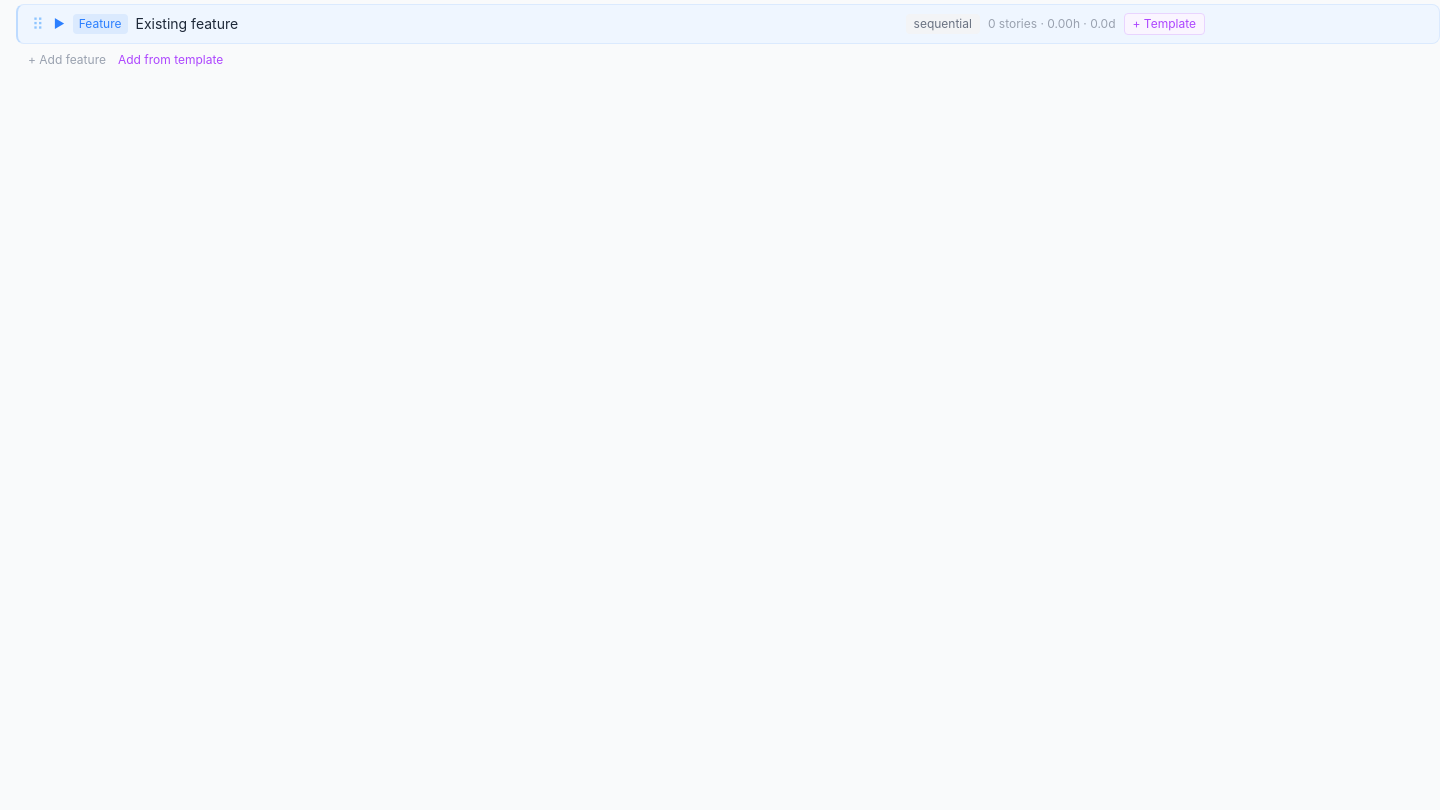
FeatureList template entry points › offers blank and template creation beside each other without disturbing the per-feature template action
Expected: the button "+ Add feature" is shown, [24,48,106,72]
Expected: the button "+ Template" is shown, [1124,13,1205,35]
Click the button "Add from template" at (171, 60), box [118,48,223,72]
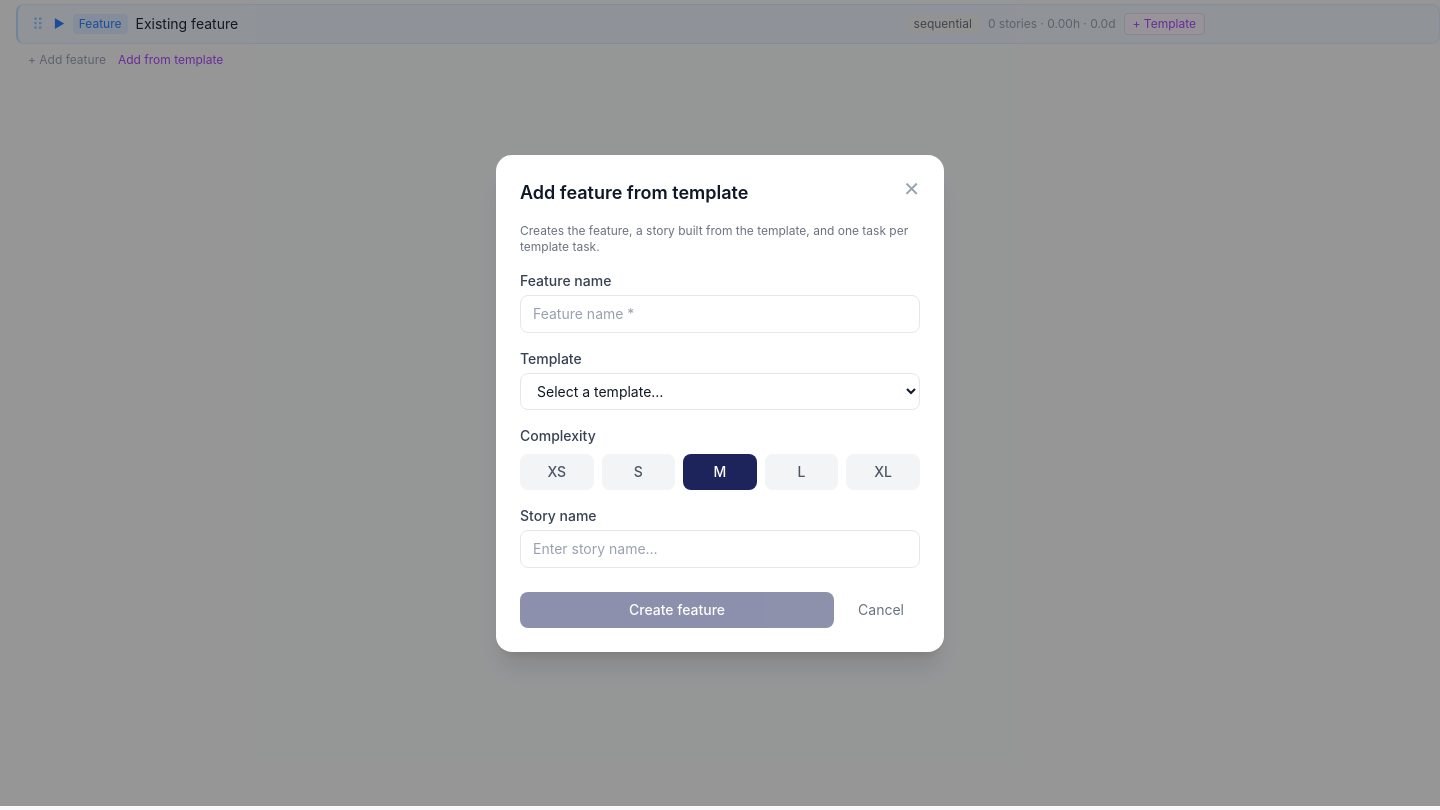
Expected: the button "+ Add feature" is shown, [24,48,106,72]
Now the dialog "Add feature from template" is shown, box [496,154,944,652]
Click the button named "Close add feature from template" at (912, 188), box [903,178,920,198]
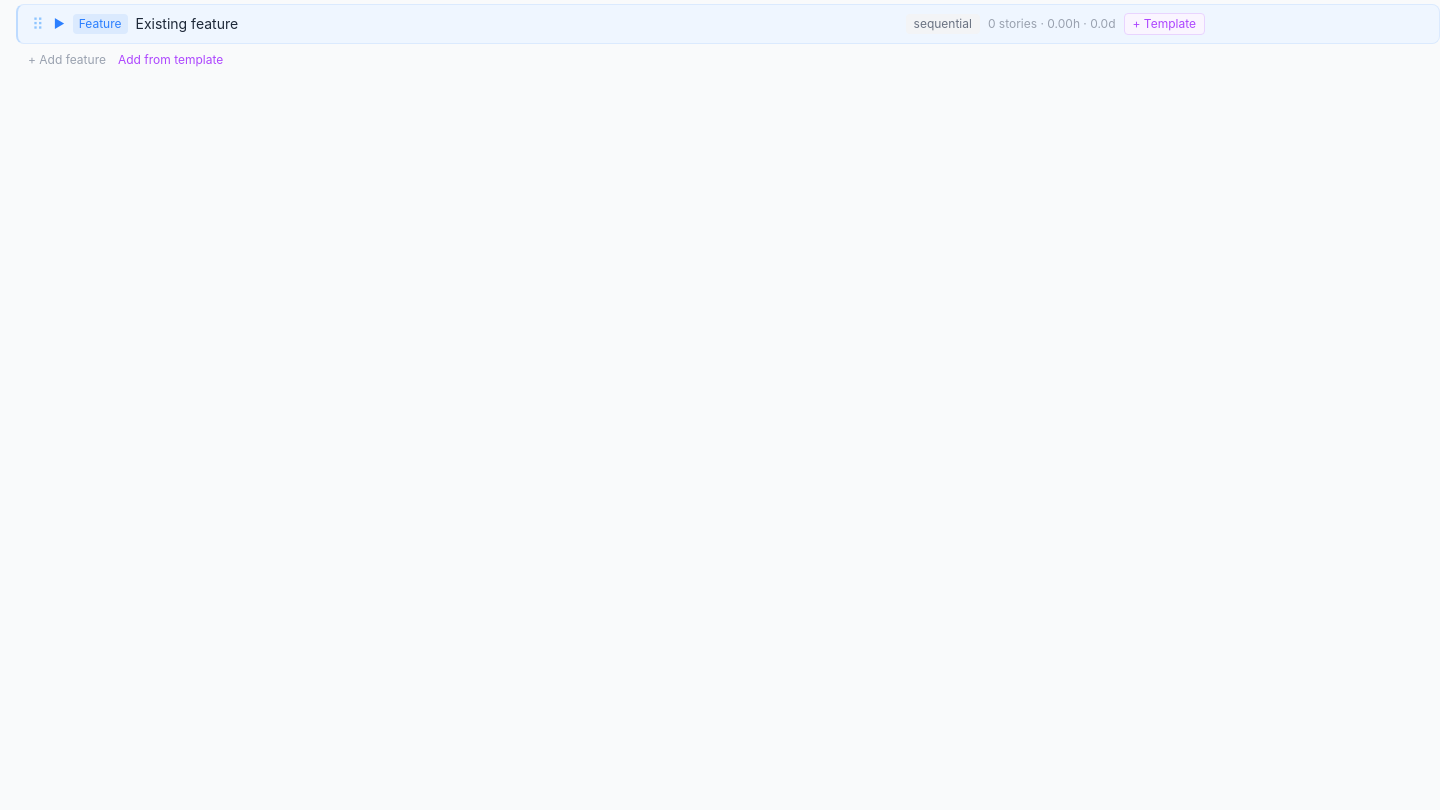
Now the heading "Add feature from template" is gone
Click the button "+ Add feature" at (65, 60), box [24,48,106,72]
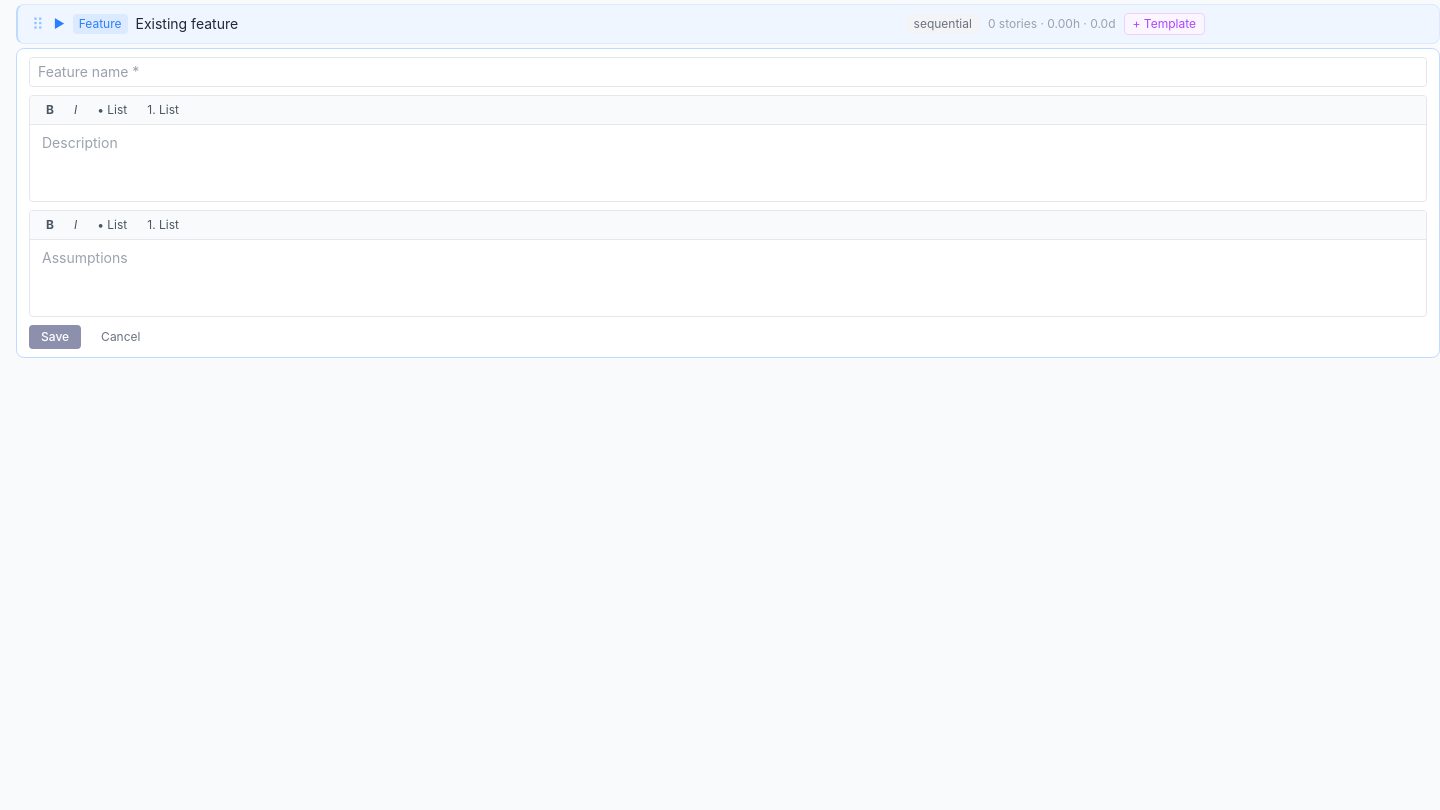
Now the field with placeholder "Feature name *" is shown, box [29,57,1427,87]
